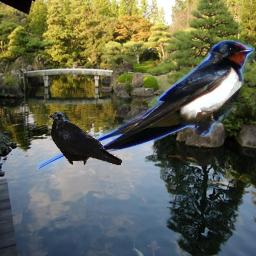Crow: (48, 111, 122, 165)
Swallow: (35, 40, 255, 170)
